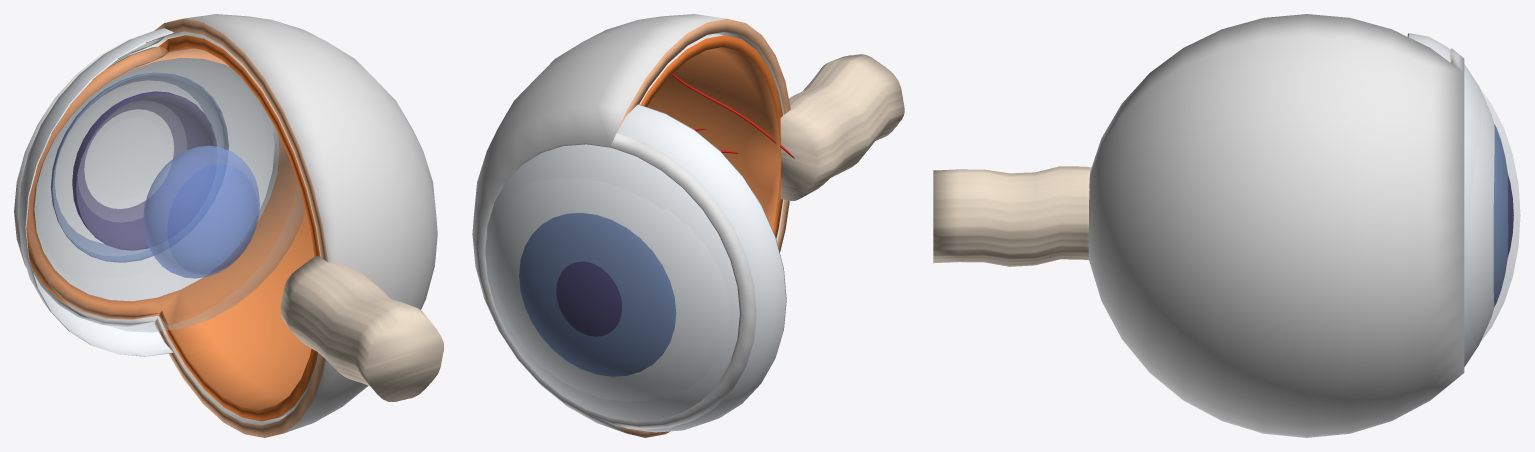
Rendered from ojofinal.glb.
3 renders of one model, left to right at view 1: azimuth 30°, elevation 25°; view 2: azimuth 150°, elevation 25°; view 3: azimuth 270°, elevation 25°, orthographic. The views are drawn at different scales.
Visible parts, largest first — view 1: Lens.002, Eyeball, Lens, Eyeball.001, OpticNerve, Lens.001, Lens.003, Lens.004; view 2: Lens, Lens.002, Eyeball, Lens.004, Eyeball.001, OpticNerve, Lens.003, Vessel_FarUpper; view 3: Eyeball, OpticNerve, Lens.002, Lens, Lens.004.
Boxes of the visible parts, x1=… form: Lens.002: x1=27, y1=47, x2=305, y2=332; Eyeball: x1=14, y1=14, x2=437, y2=437; Lens: x1=18, y1=28, x2=274, y2=356; Eyeball.001: x1=26, y1=33, x2=320, y2=421; OpticNerve: x1=280, y1=256, x2=443, y2=401; Lens.001: x1=143, y1=145, x2=259, y2=278; Lens.003: x1=72, y1=91, x2=217, y2=250; Lens.004: x1=50, y1=72, x2=228, y2=262; Lens: x1=485, y1=104, x2=786, y2=432; Lens.002: x1=488, y1=178, x2=729, y2=401; Eyeball: x1=472, y1=14, x2=790, y2=437; Lens.004: x1=519, y1=212, x2=676, y2=376; Eyeball.001: x1=639, y1=33, x2=782, y2=238; OpticNerve: x1=780, y1=54, x2=904, y2=200; Lens.003: x1=556, y1=261, x2=622, y2=336; Vessel_FarUpper: x1=671, y1=74, x2=794, y2=158; Eyeball: x1=1088, y1=14, x2=1464, y2=437; OpticNerve: x1=933, y1=166, x2=1091, y2=266; Lens.002: x1=1467, y1=90, x2=1520, y2=345; Lens: x1=1407, y1=33, x2=1494, y2=366; Lens.004: x1=1493, y1=124, x2=1508, y2=306.
Size of the model in its own units: 3.61 by 4 by 5.28.
